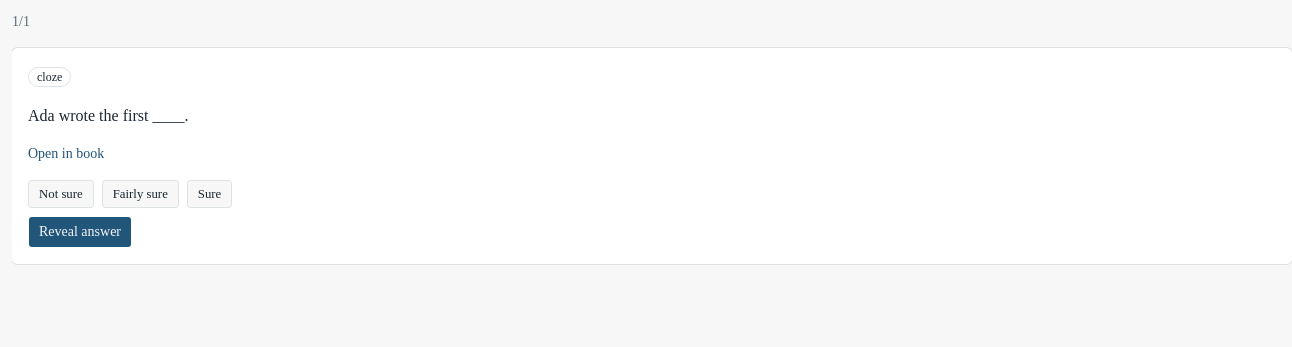
ReviewScreen session flow (E2) › reveals a cloze card's answer + citation and links back into the reader
This screenshot has width=1292, height=347.
Expected: the text with test id "question" reads "Ada wrote the first ____.", [28,107,188,124]
Expected: the text with test id "position" reads "1/1", [12,14,30,29]
# Reveal exposes the answer and the citation footnote.
Click the button "Reveal answer". click: click(80, 232)
box: [28,216,132,248]
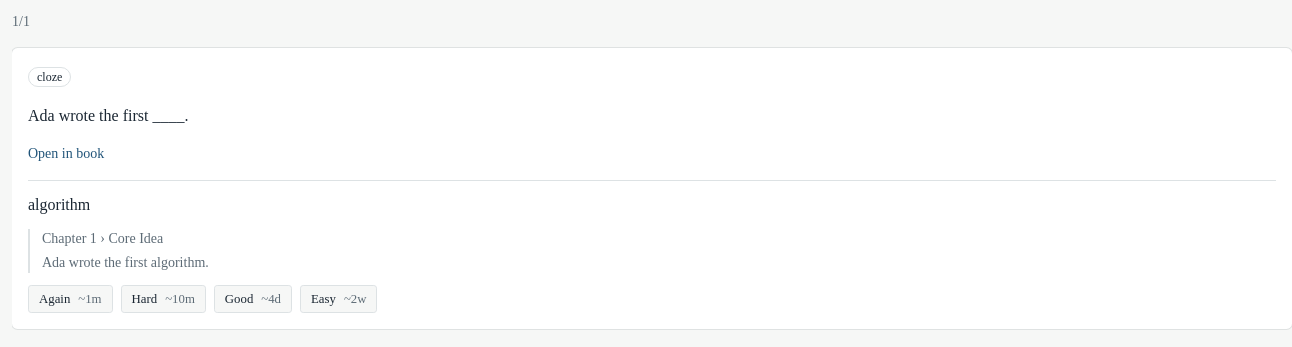
Now the text with test id "answer" reads "algorithm", box [28,196,90,213]
Now the text "Chapter 1 › Core Idea" is shown, box [42,231,163,246]
Now the text "Ada wrote the first algorithm." is shown, box [42,255,209,270]
